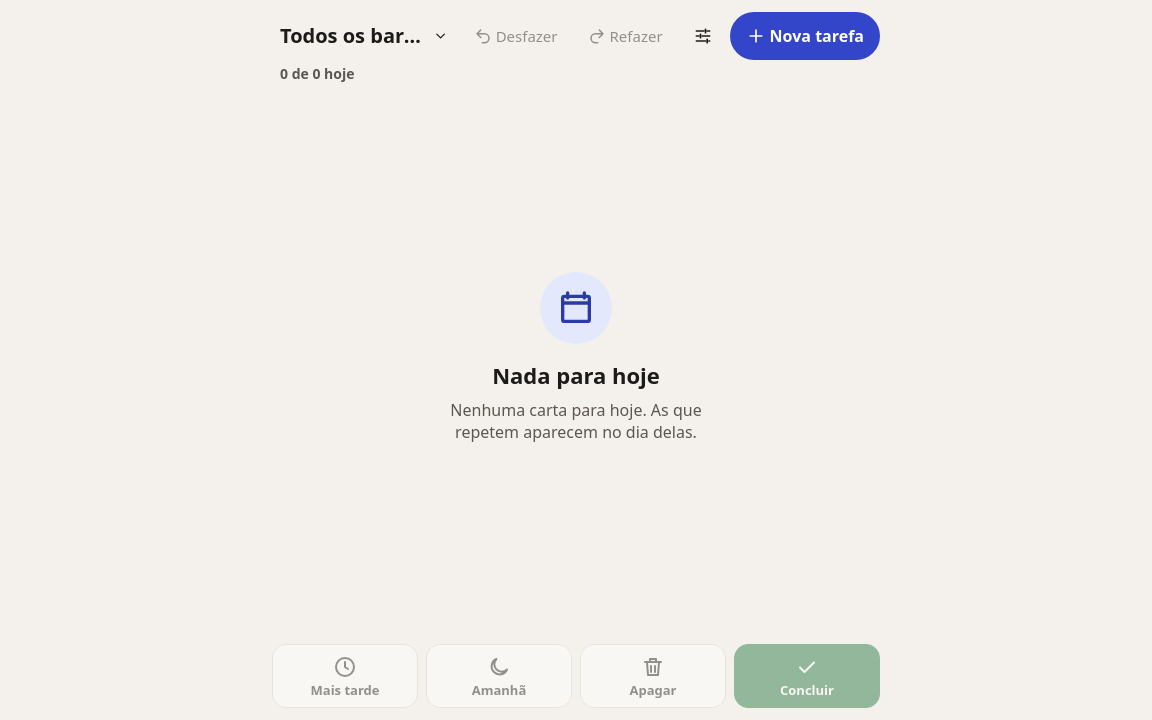
Test case: deck management › never deletes the last deck
The width and height of the screenshot is (1152, 720).
Click the button with aria-label "Baralho:".
click(364, 36)  # box [272,12,457,60]
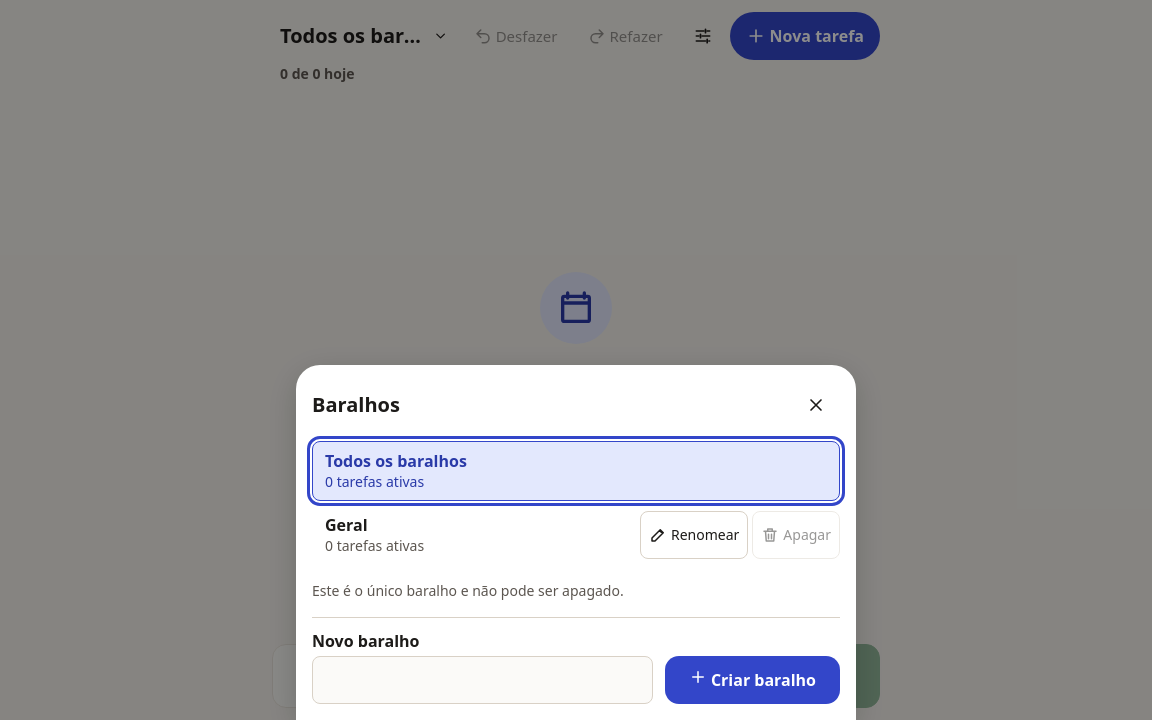
Now the button with aria-label "Apagar Geral" is disabled, box [752,511,840,559]
